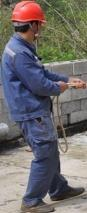boots: (20, 199, 55, 213), (1, 1, 1, 1)
gloves: (57, 77, 86, 92), (1, 0, 1, 0)
hard-hat: (10, 0, 48, 23)
ppe-suit: (0, 32, 71, 203)
vest: (1, 0, 1, 0)
